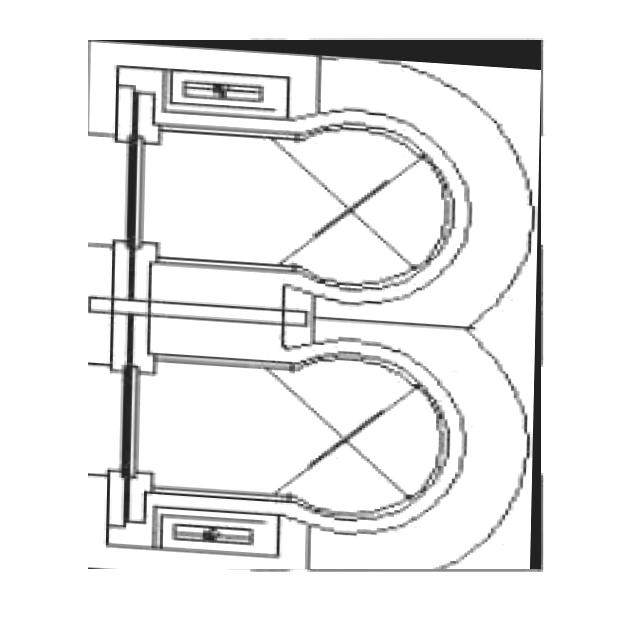lift: (88, 40, 541, 569)
